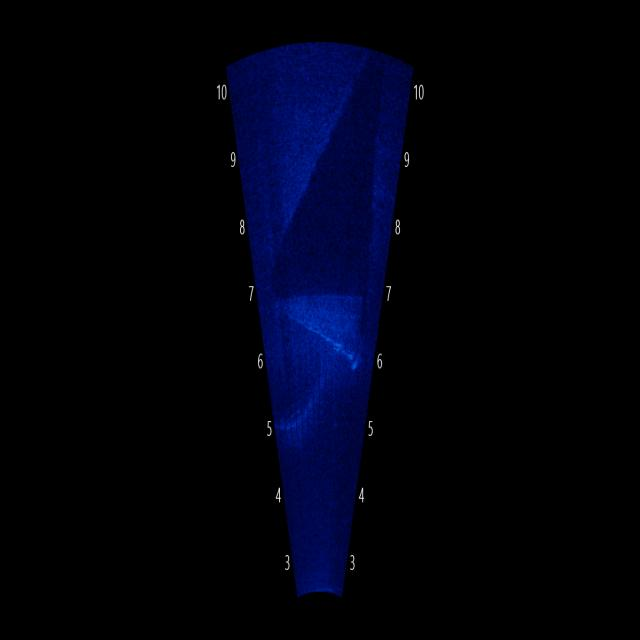triangle: (272, 254, 368, 380)
